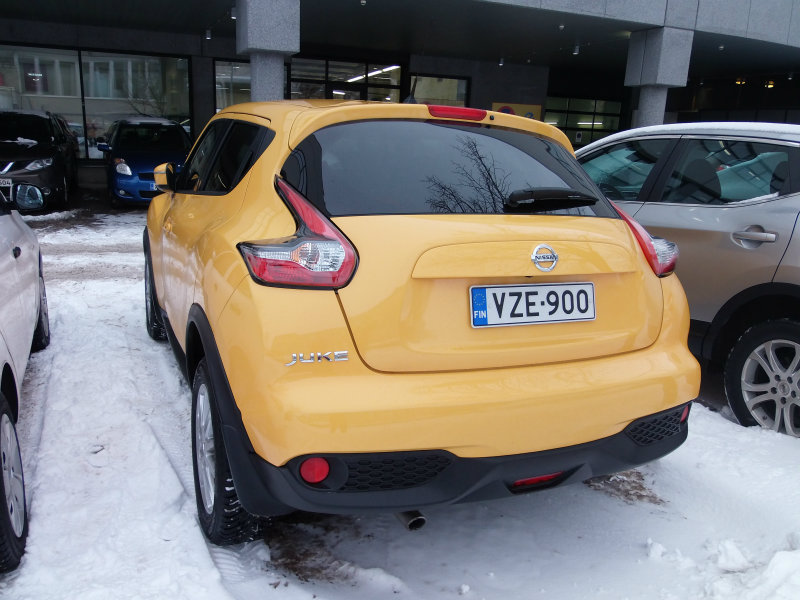license: (467, 282, 593, 327)
